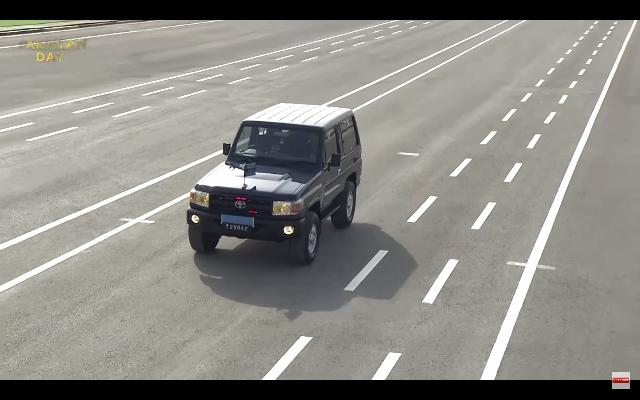plate: (224, 223, 250, 233)
